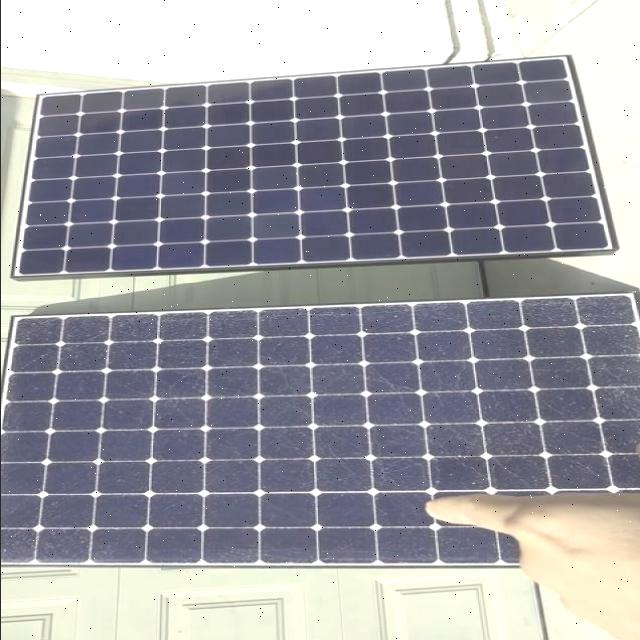Anomaly Solar Panel: (0, 290, 640, 566)
Normal Solar Panel: (13, 56, 616, 276)
